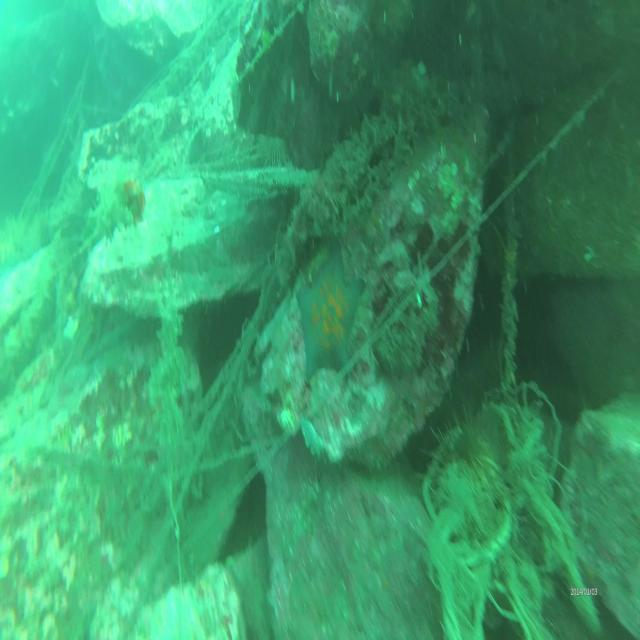echinus: (420, 398, 501, 546)
starfish: (293, 240, 365, 386)
